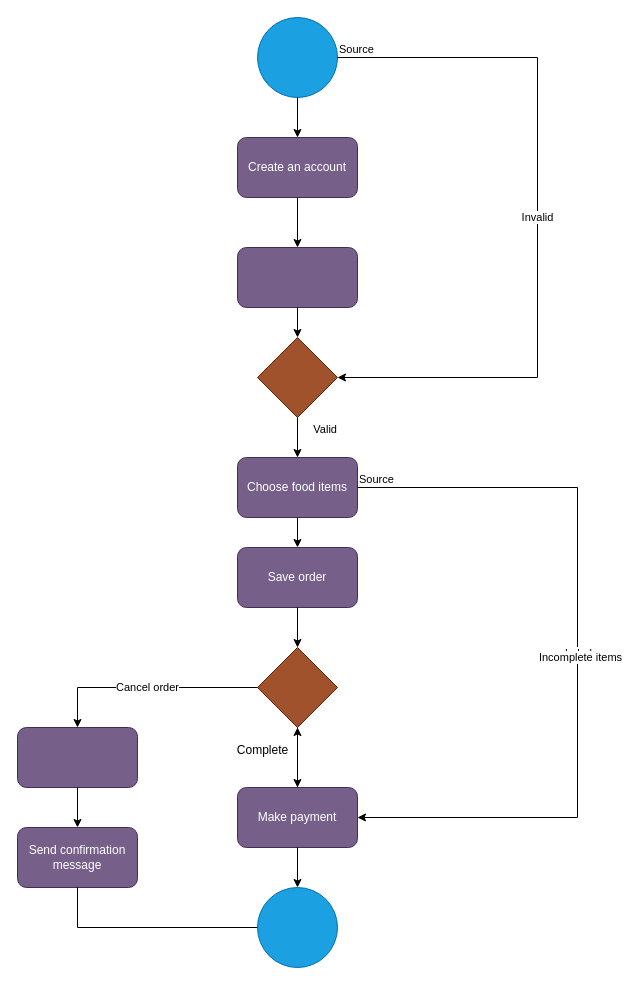
The diagram is 639 pixels wide and 985 high, and some of its shapes have lost their labels. Each missing label, with the centre of its shape:
"Check Info" belongs at [297,277].
"Delete order" belongs at [77,757].
